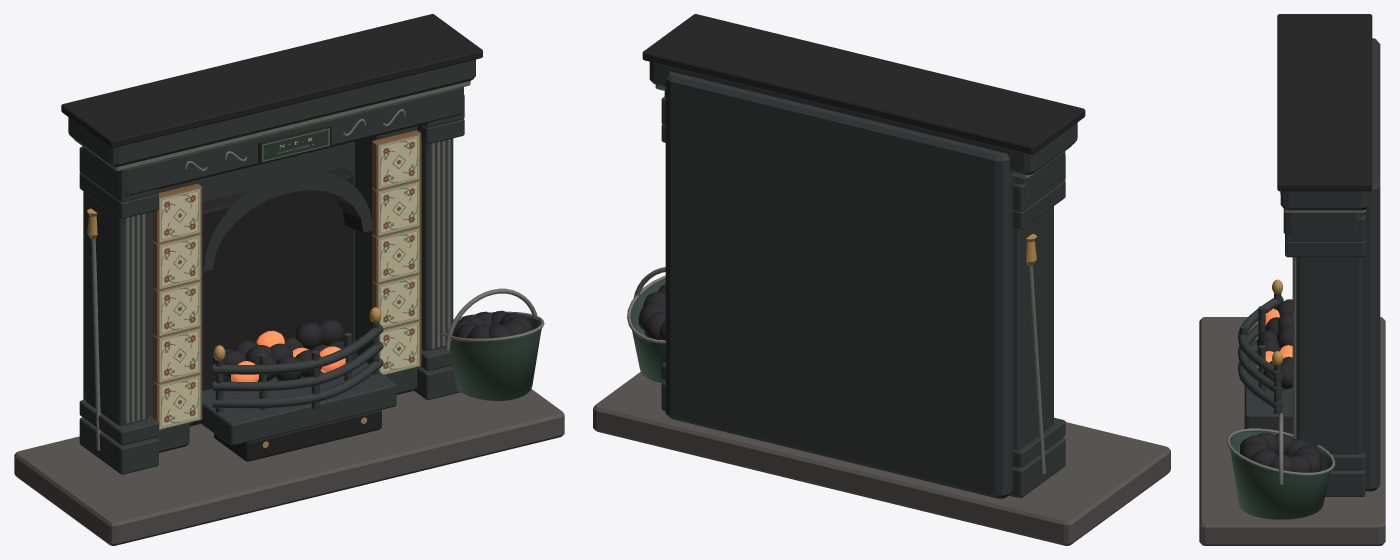
File: WaitingRoomGrate.fbx
The picture shows the model from 3 angles, left to right: view 1: azimuth 30°, elevation 25°; view 2: azimuth 150°, elevation 25°; view 3: azimuth 270°, elevation 25°; orthographic projection. The views are drawn at different scales.
Visible parts, largest first — view 1: WaitingRoomGrate joinery; view 2: WaitingRoomGrate joinery; view 3: WaitingRoomGrate joinery.
Part boxes in pixels (<box>): WaitingRoomGrate joinery: <box>14,14,564,545</box>; WaitingRoomGrate joinery: <box>593,14,1170,545</box>; WaitingRoomGrate joinery: <box>1199,14,1385,545</box>.
Bounding box in the file's own units: 1.34 × 0.9965 × 0.49.
Materials: 10 (1 with a texture image).
